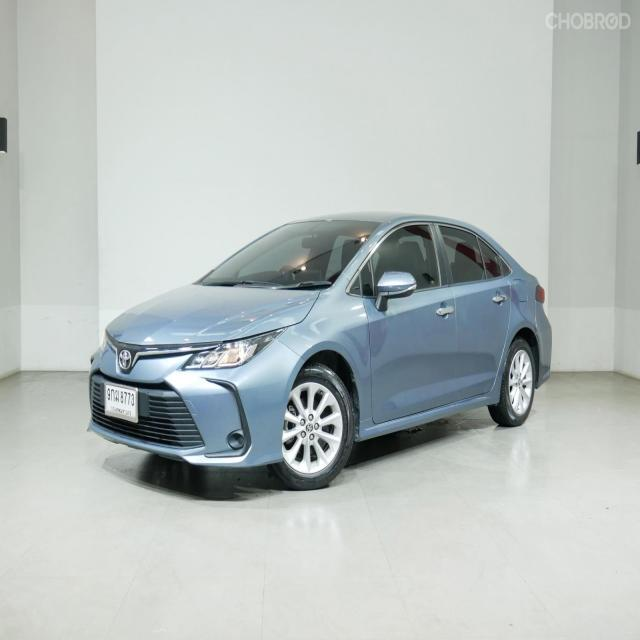license_plate: (104, 381, 138, 424)
